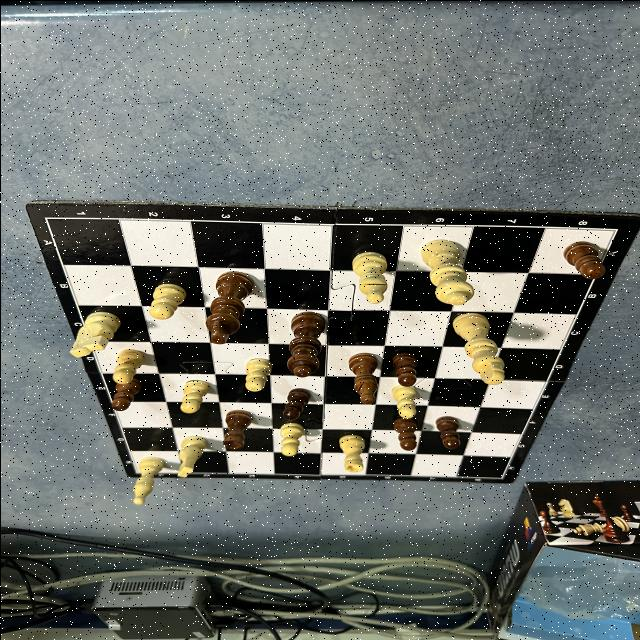Black-Bishop: (346, 352, 378, 404)
Black-King: (204, 270, 253, 342)
Black-Pawn: (562, 240, 605, 278), (110, 376, 142, 411), (282, 386, 310, 421), (390, 416, 418, 450), (432, 415, 460, 449), (390, 352, 417, 386)
Black-Queen: (286, 311, 326, 377)
Black-Rook: (221, 408, 253, 449)
White-Bishop: (351, 250, 387, 302), (130, 456, 164, 504)
White-King: (450, 312, 505, 384)
White-Knight: (68, 310, 120, 357), (175, 435, 208, 477)
White-Pawn: (147, 282, 185, 318), (112, 348, 144, 384), (178, 378, 210, 413), (390, 383, 418, 418), (243, 358, 272, 391), (278, 421, 304, 456)
White-Queen: (419, 238, 473, 304)
White-Rook: (337, 434, 365, 472)
